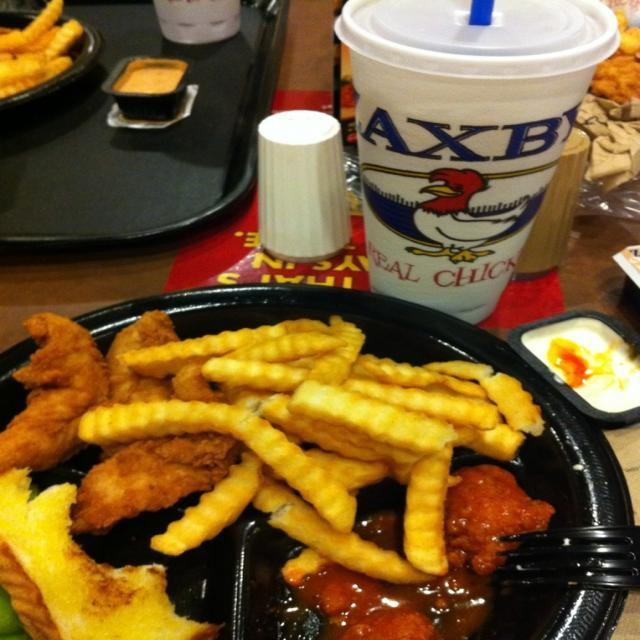French fries: (44, 308, 546, 616), (0, 0, 84, 97)
